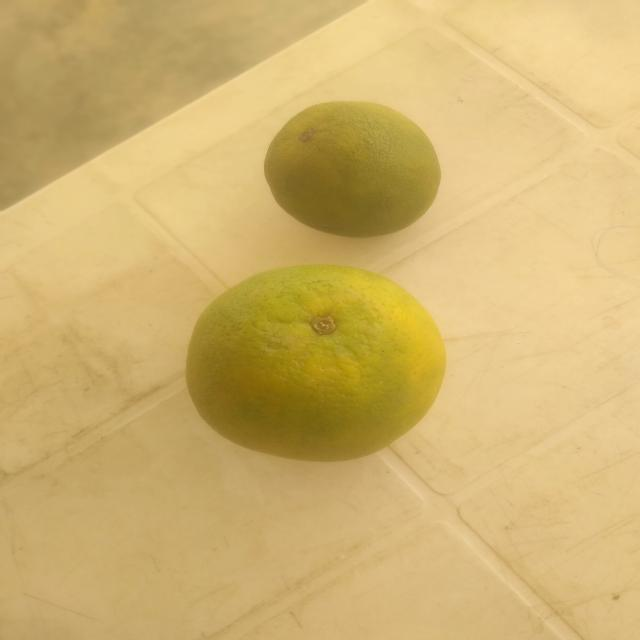Unripe: (175, 257, 468, 474), (230, 92, 465, 241)
